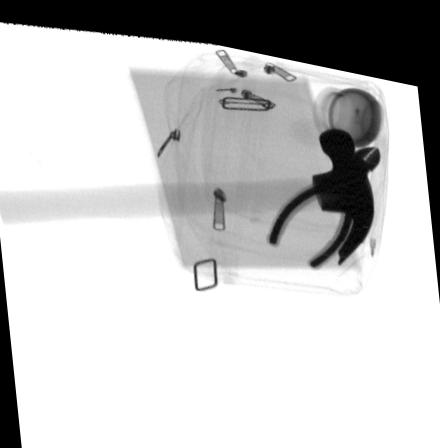Hammer: (0, 110, 376, 252)
Pliers: (266, 130, 382, 258)
